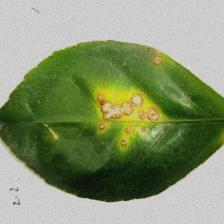canker: (72, 47, 177, 162)
